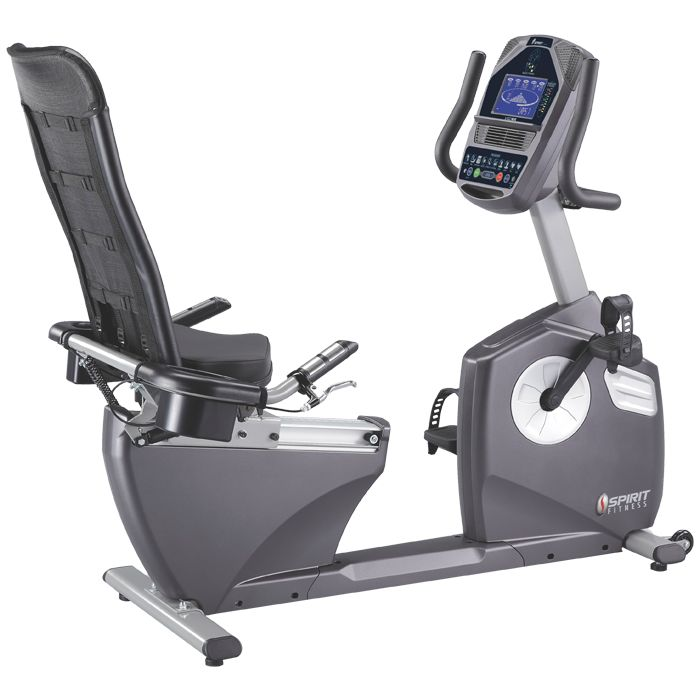gym_bike: (11, 35, 697, 664)
